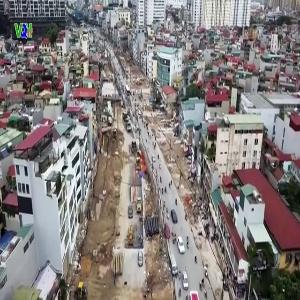drone: (231, 238, 286, 293)
